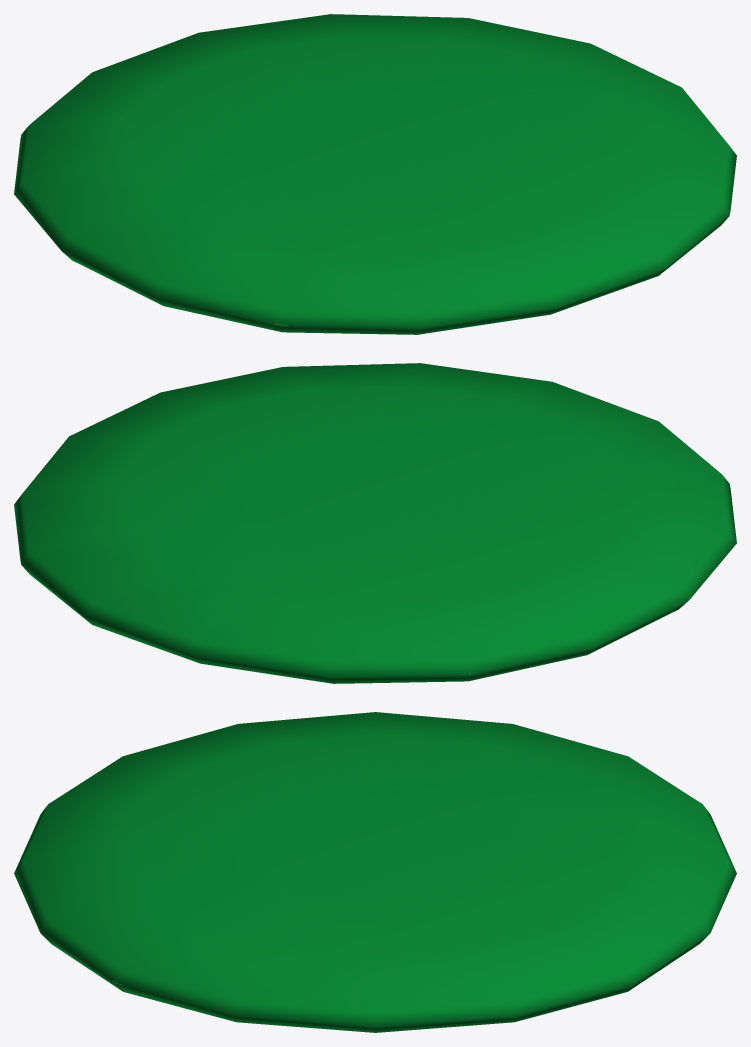
The model's file is GrassPlane.fbx.
3 views of the same model, one above another, from view 1: azimuth 30°, elevation 25°; view 2: azimuth 150°, elevation 25°; view 3: azimuth 270°, elevation 25° (orthographic).
Visible parts, largest first — view 1: Cube; view 2: Cube; view 3: Cube.
Boxes of the visible parts, x1=… form: Cube: x1=14, y1=14, x2=736, y2=334; Cube: x1=14, y1=363, x2=736, y2=683; Cube: x1=14, y1=712, x2=736, y2=1032.
Size of the model in its own units: 360 by 32.96 by 360.
